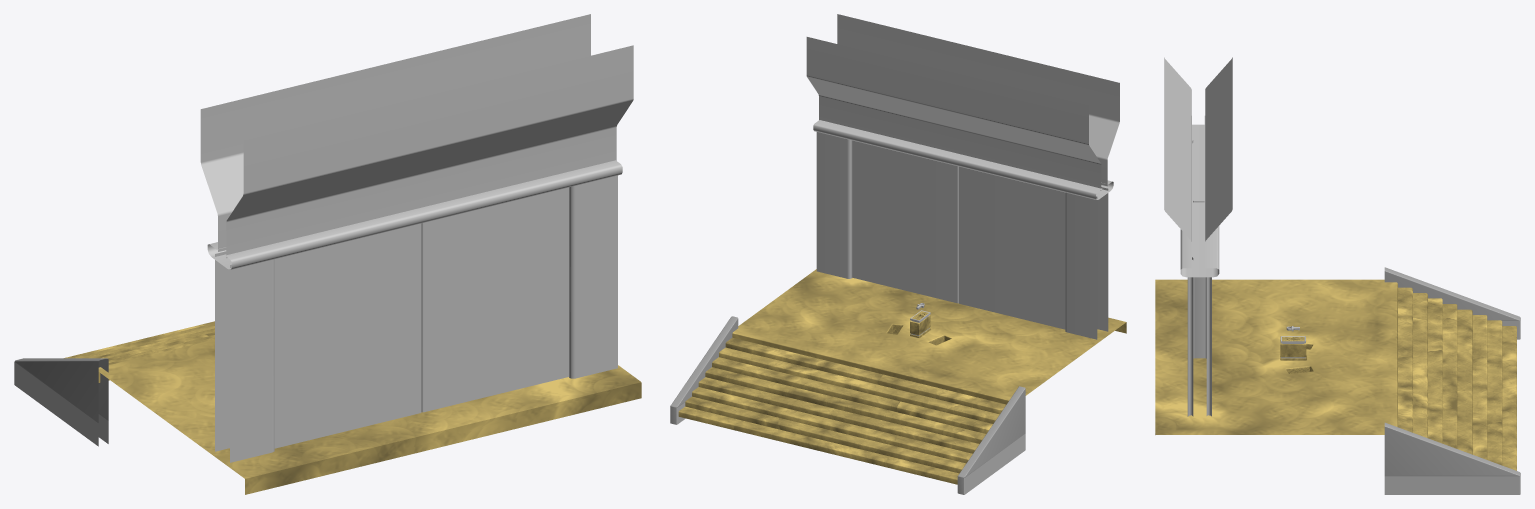
File: Boss Door.fbx
3 views of the same model, side by side, from view 1: azimuth 30°, elevation 25°; view 2: azimuth 150°, elevation 25°; view 3: azimuth 270°, elevation 25° (orthographic). The views are drawn at different scales.
Parts seen in each view (by area): view 1: Uppy_door2, pCube19, pCube20, Floor, Floor9; view 2: Uppy_door2, Floor9, Floor, pCube19, pCube20; view 3: Floor, Floor9, Uppy_door2, pCube19, Stand.
Boxes of the visible parts, x1,y1,x2,y2 form: Uppy_door2: (200,14,633,462); pCube19: (274,223,421,448); pCube20: (421,187,568,412); Floor: (98,339,641,494); Floor9: (14,321,214,446); Uppy_door2: (806,14,1119,339); Floor9: (670,316,1025,494); Floor: (732,269,1126,404); pCube19: (958,166,1065,329); pCube20: (852,140,958,303); Floor: (1155,279,1397,434); Floor9: (1384,267,1520,494); Uppy_door2: (1164,57,1232,416); pCube19: (1193,201,1205,358); Stand: (1280,336,1306,360).
Bounding box in the file's own units: 1302 × 1238 × 1262.
